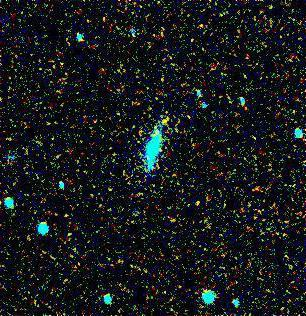star: (155, 104, 185, 134)
